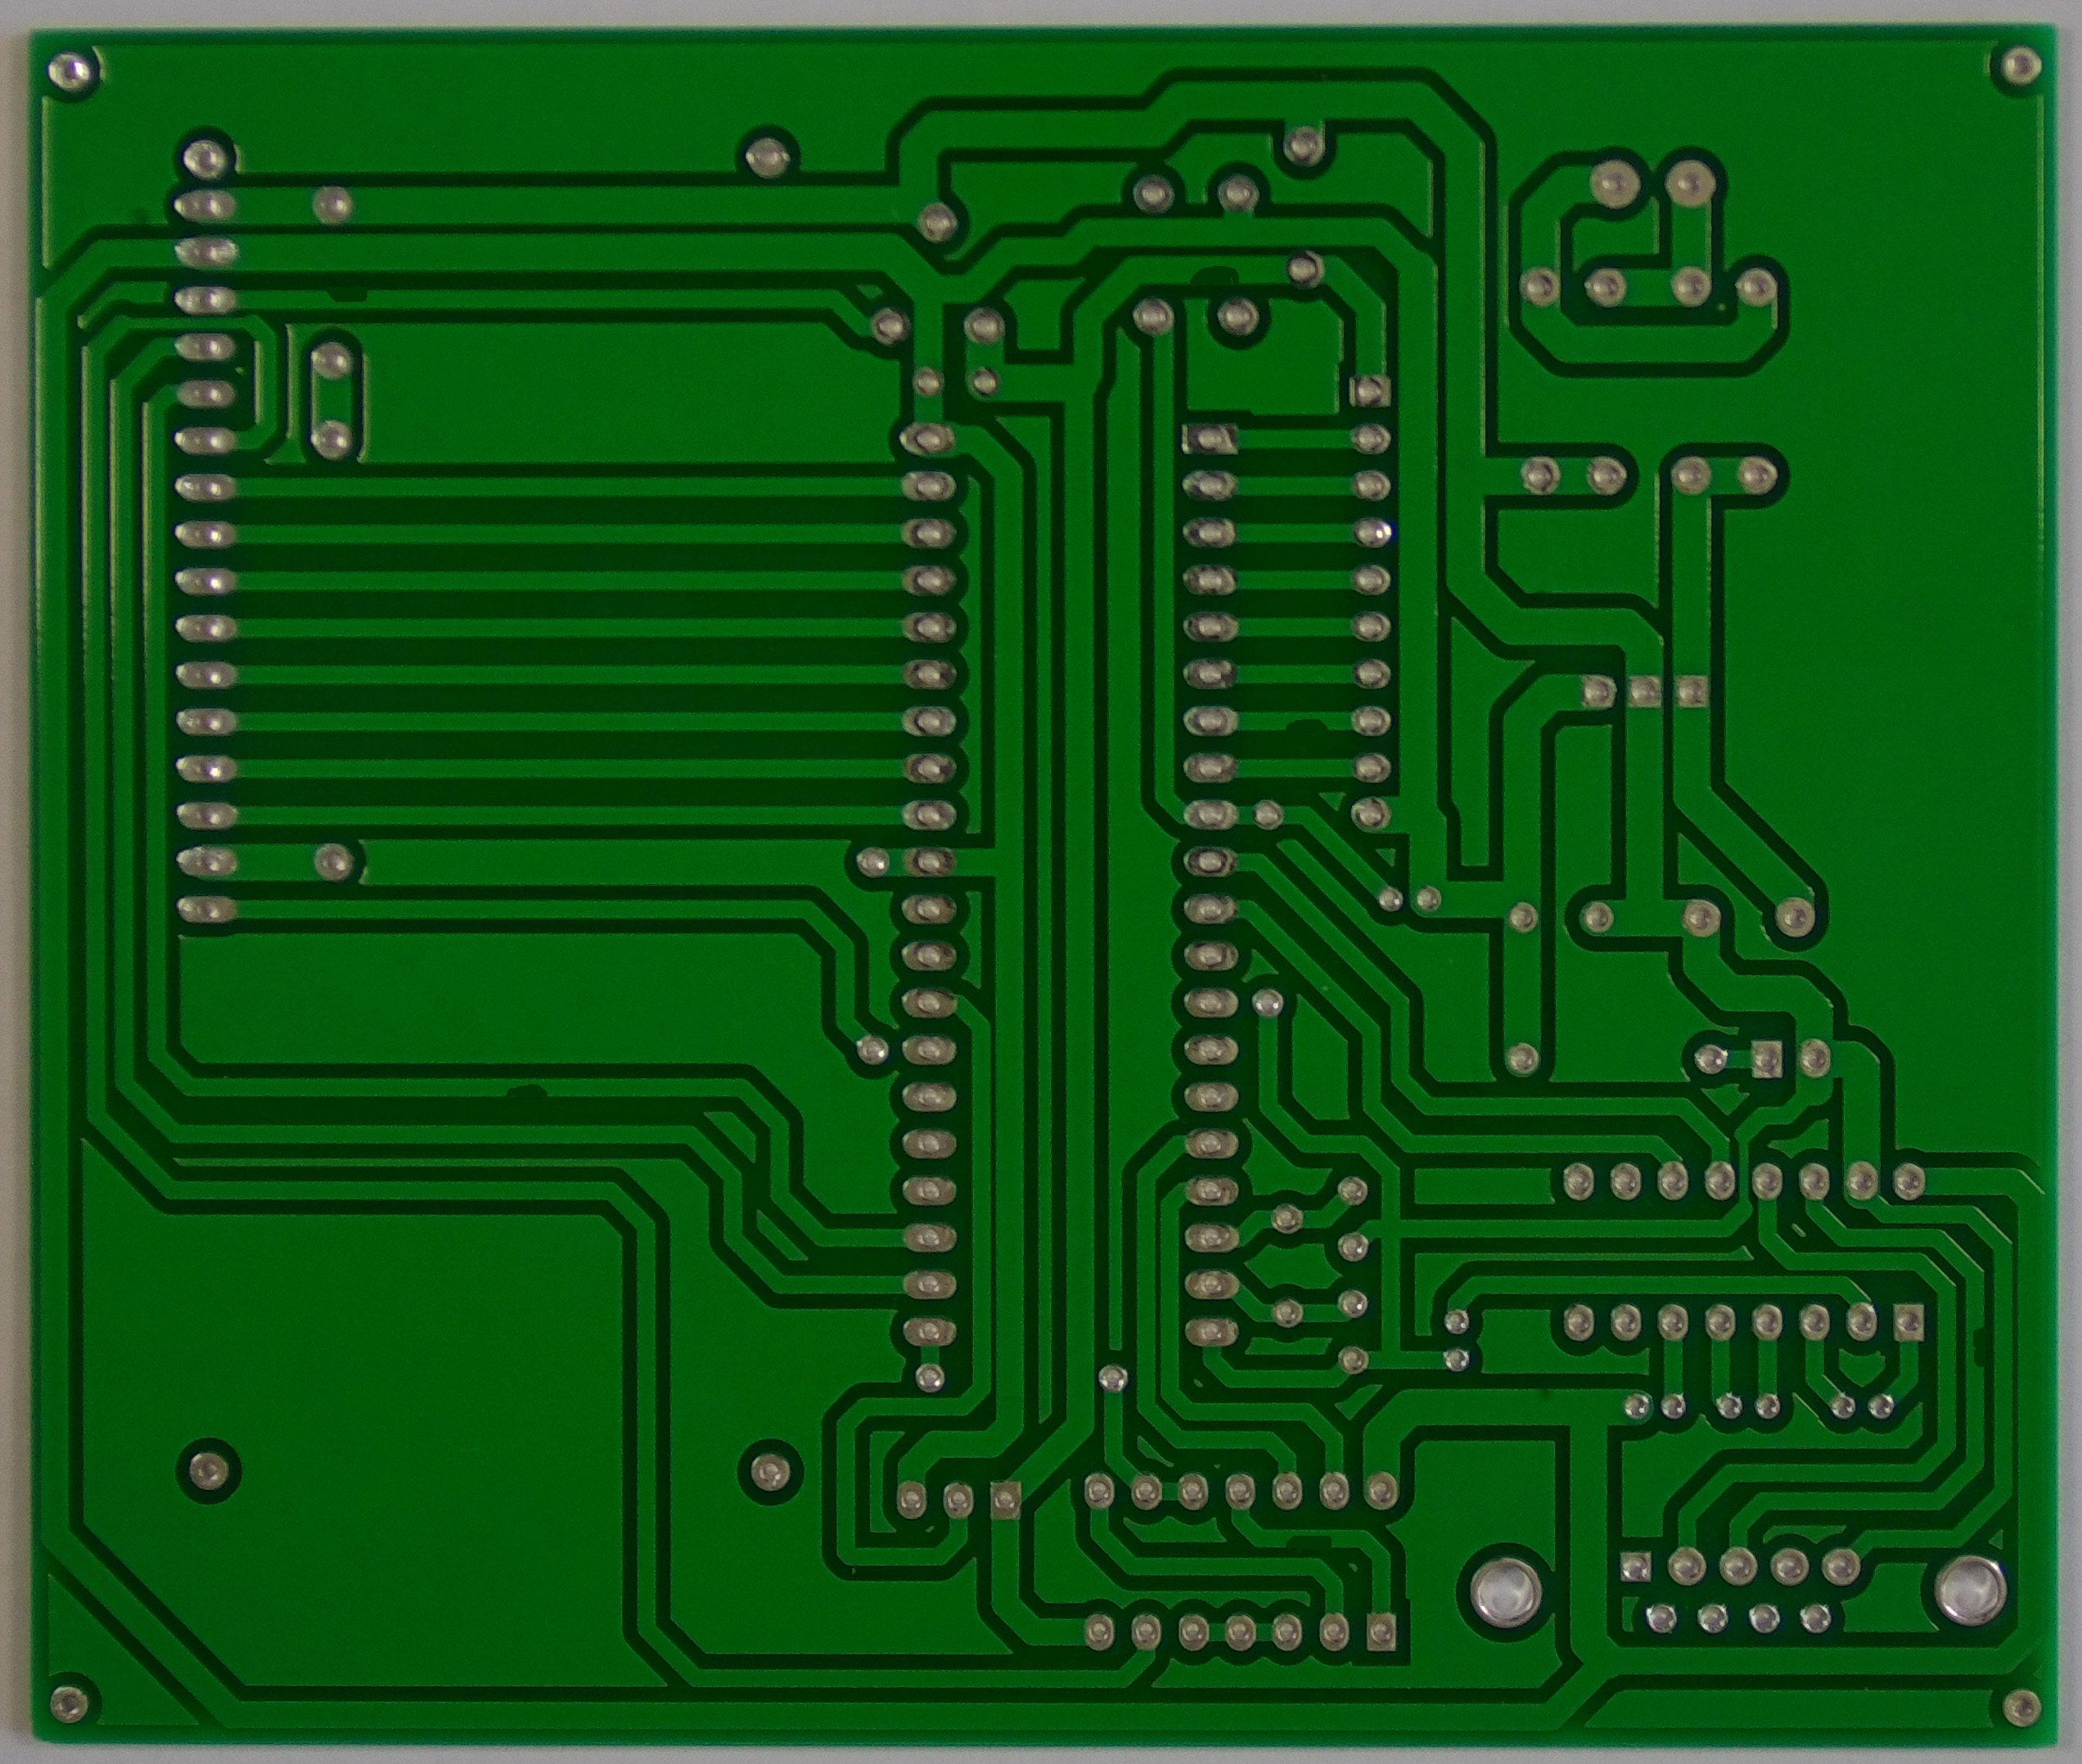mouse_bite: (1170, 244, 1256, 296), (484, 1067, 561, 1109), (1268, 701, 1341, 742), (318, 277, 380, 313), (1277, 1522, 1341, 1558), (1960, 1320, 1996, 1371)
